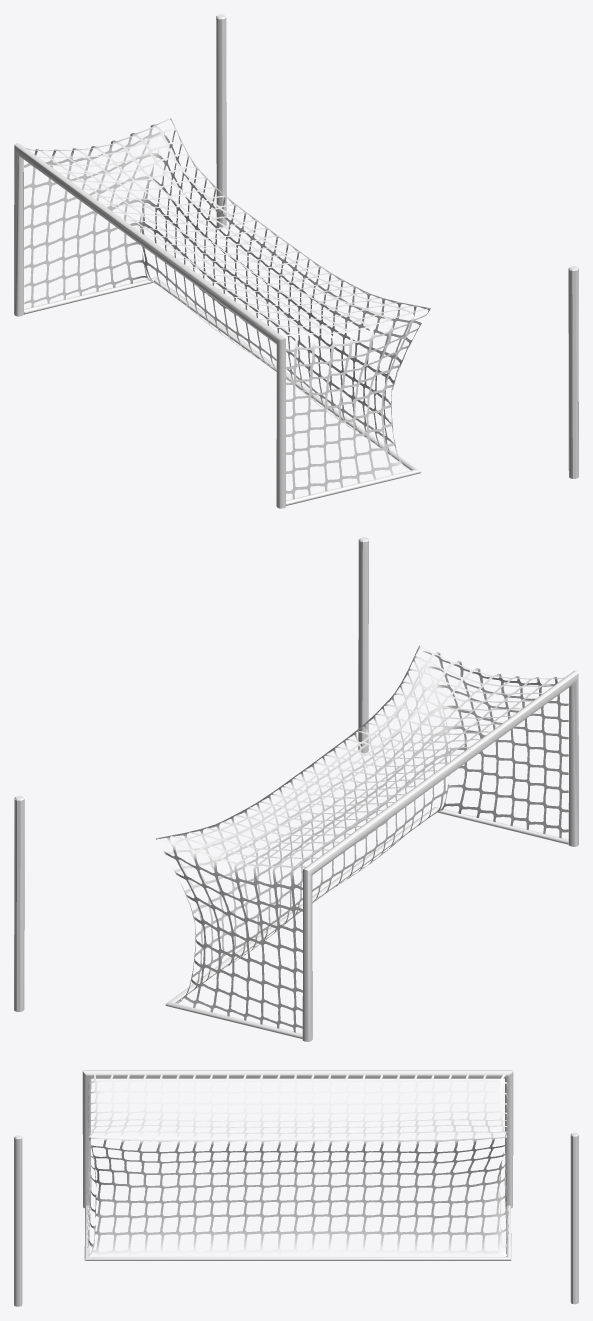
The model's file is goal.glb.
3 renders of one model, top to bottom at view 1: azimuth 30°, elevation 25°; view 2: azimuth 150°, elevation 25°; view 3: azimuth 270°, elevation 25°, orthographic. The views are drawn at different scales.
Parts seen in each view (by area): view 1: exported, Shape003, Shape004, Shape003.001; view 2: exported, Shape003, Shape004, Shape003.001; view 3: exported, Shape003, Shape004, Shape003.001.
Boxes of the visible parts, box(x1,y1,x2,y2) form: exported: box(24, 118, 430, 499); Shape003: box(14, 143, 285, 508); Shape004: box(216, 14, 578, 478); Shape003.001: box(24, 277, 420, 505); exported: box(156, 645, 568, 1032); Shape003: box(302, 670, 578, 1041); Shape004: box(14, 537, 368, 1011); Shape003.001: box(165, 807, 568, 1039); exported: box(87, 1074, 508, 1256); Shape003: box(82, 1070, 513, 1208); Shape004: box(14, 1132, 578, 1306); Shape003.001: box(84, 1205, 511, 1260).
Bounding box in the file's own units: 4.16 × 3.23 × 9.79.
2 materials, 1 textured.
